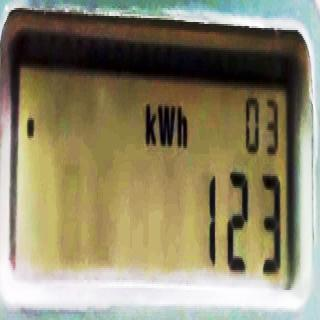-: (26, 112, 35, 141)
0: (243, 91, 260, 163)
1: (207, 167, 218, 271)
2: (224, 164, 251, 285)
3: (259, 167, 284, 285), (264, 92, 280, 163)
